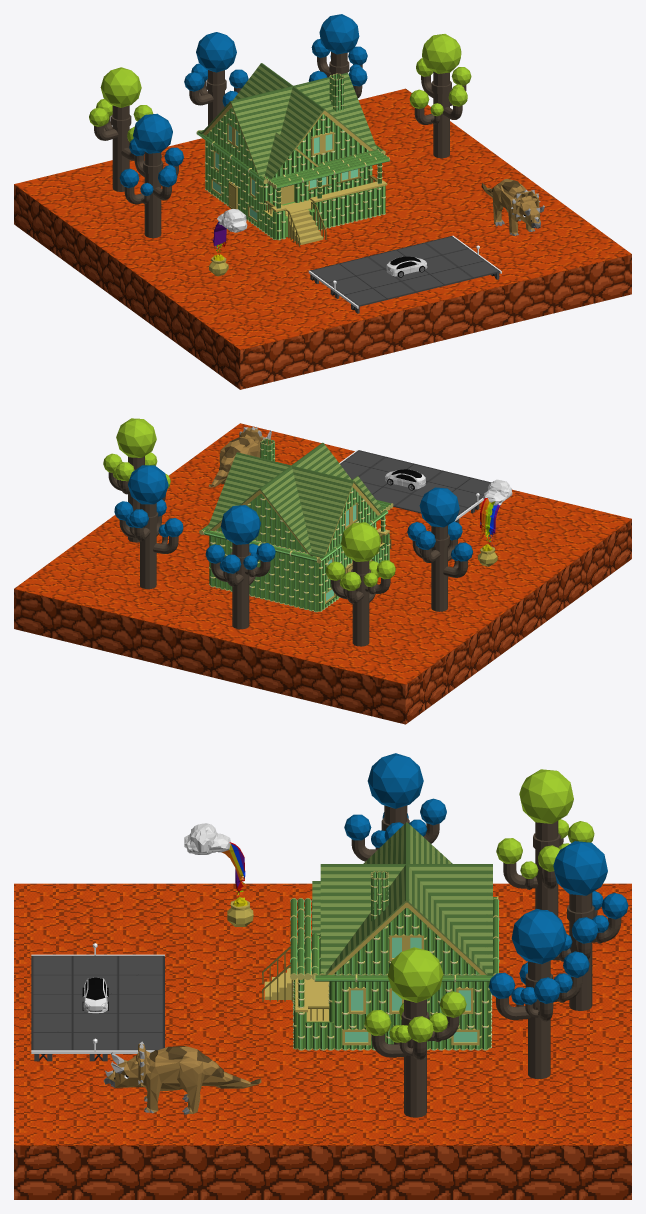
3 renders of one model, top to bottom at view 1: azimuth 30°, elevation 25°; view 2: azimuth 150°, elevation 25°; view 3: azimuth 270°, elevation 25°, orthographic. The views are drawn at different scales.
Visible parts, largest first — view 1: Cube.001, Cube.1327, ANIMAL_Triceratops, OBJRANDOM_RAINBOW, VEHICLES_TESLA; view 2: Cube.001, Cube.1327, OBJRANDOM_RAINBOW, ANIMAL_Triceratops, VEHICLES_TESLA; view 3: Cube.001, Cube.1327, ANIMAL_Triceratops, OBJRANDOM_RAINBOW, VEHICLES_TESLA.
Part boxes in pixels (box(x1,y1,x2,y2)): Cube.001: box(14, 14, 631, 389); Cube.1327: box(196, 63, 389, 246); ANIMAL_Triceratops: box(481, 179, 544, 235); OBJRANDOM_RAINBOW: box(209, 209, 247, 276); VEHICLES_TESLA: box(386, 256, 427, 277); Cube.001: box(14, 418, 631, 724); Cube.1327: box(199, 438, 393, 612); OBJRANDOM_RAINBOW: box(478, 479, 512, 566); ANIMAL_Triceratops: box(208, 427, 271, 487); VEHICLES_TESLA: box(385, 469, 425, 490); Cube.001: box(14, 753, 631, 1199); Cube.1327: box(262, 822, 499, 1050); ANIMAL_Triceratops: box(103, 1041, 261, 1114); OBJRANDOM_RAINBOW: box(184, 823, 253, 926); VEHICLES_TESLA: box(82, 977, 108, 1013).
Size of the model in its own units: 4000 by 1664 by 4000.
Materials: 40 (5 with a texture image).
